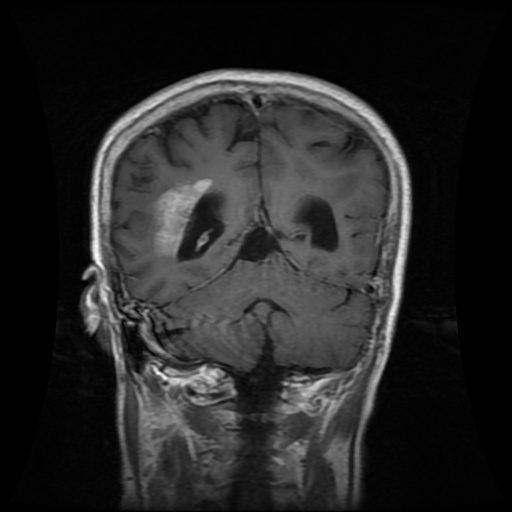glioma: (153, 178, 212, 255)
